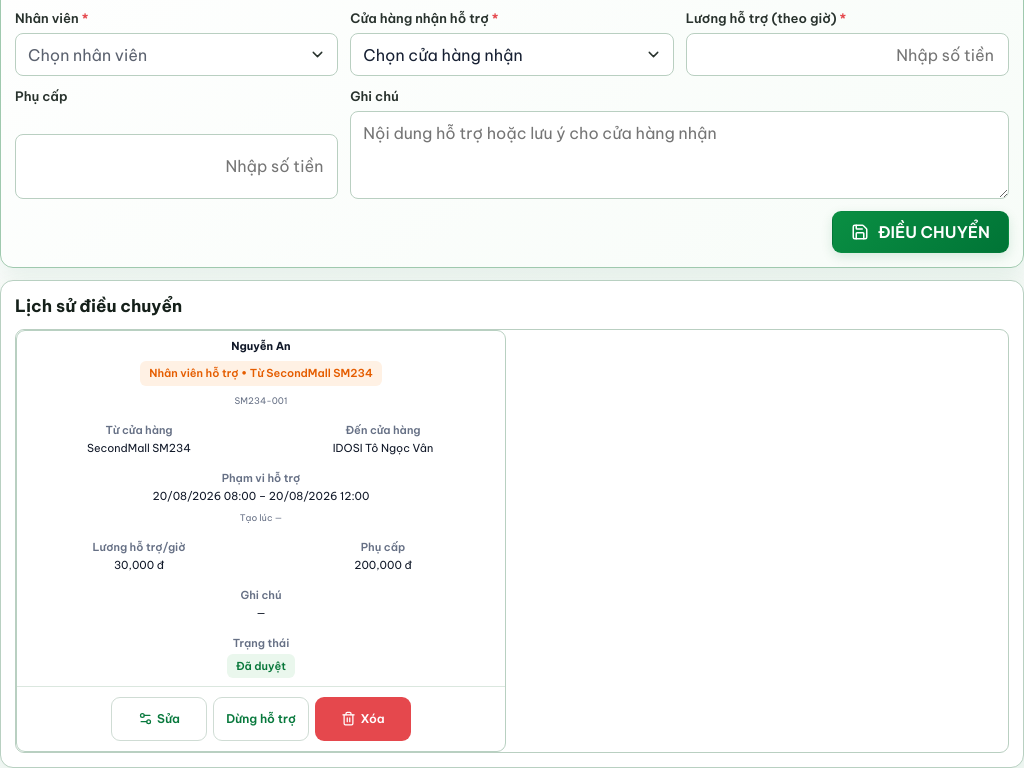
Test: Hỗ trợ KD operations › keeps transfer scope fixed while Admin edits dates and compensation after attendance exists
The width and height of the screenshot is (1024, 768).
(page scrolled)
Click the button "Sửa": (159, 719) [111,697,207,741]
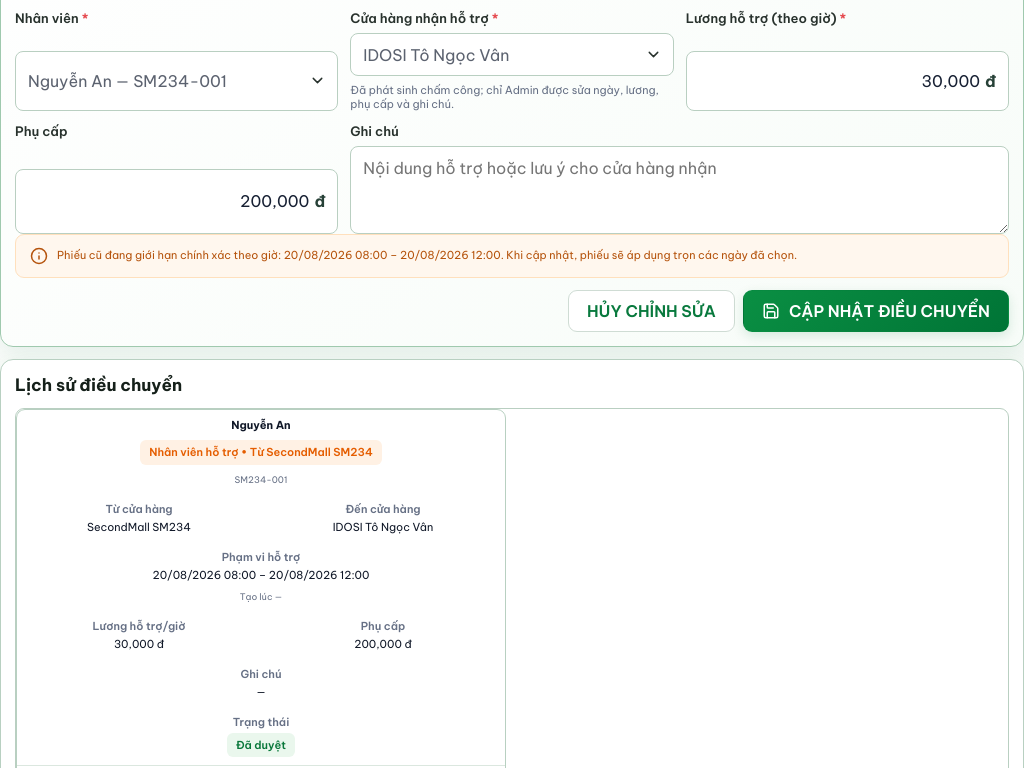
Expected: the dropdown labelled "Nhân viên *" is disabled, [28,60,303,101]
Now the dropdown labelled "Cửa hàng nhận hỗ trợ" is disabled, box [363,34,639,75]
